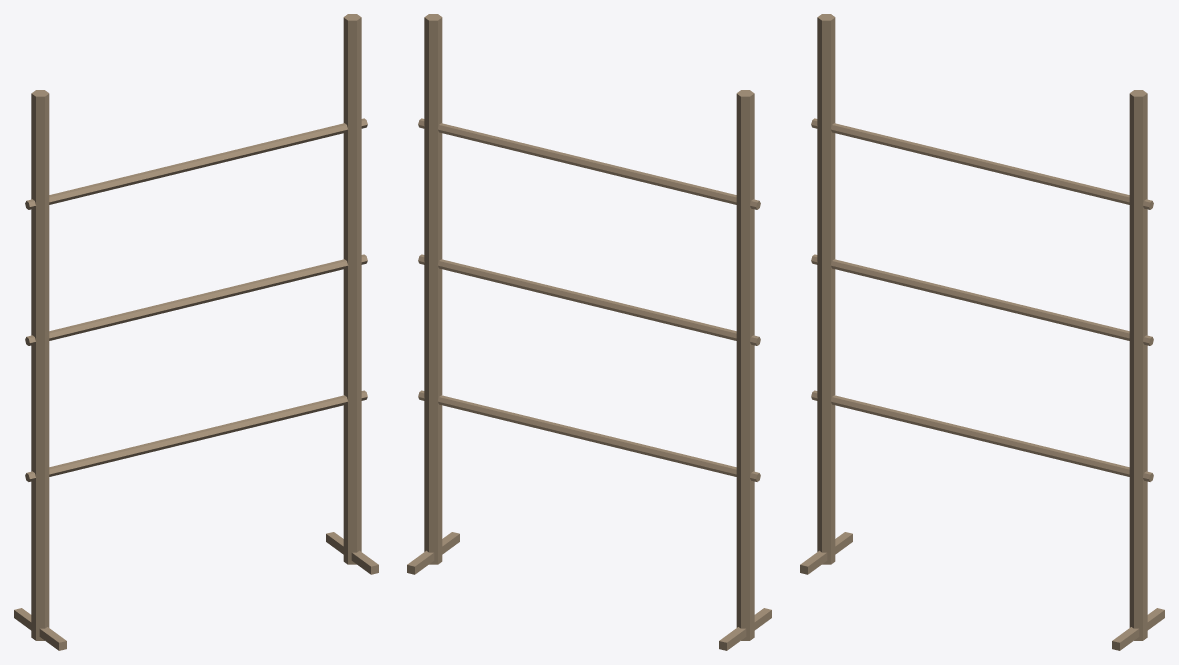
File: drying_rack.glb
The picture shows the model from 3 angles, left to right: view 1: azimuth 30°, elevation 25°; view 2: azimuth 150°, elevation 25°; view 3: azimuth 330°, elevation 25°; orthographic projection.
Parts seen in each view (by area): view 1: drying_rack; view 2: drying_rack; view 3: drying_rack.
Part boxes in pixels (x1,y1,x2,y2): drying_rack: [14, 14, 378, 650]; drying_rack: [407, 14, 771, 650]; drying_rack: [800, 14, 1164, 650].
Bounding box in the file's own units: 0.65 × 1 × 0.15.
